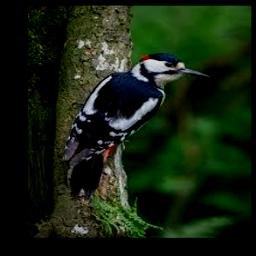Woodpecker: (61, 53, 210, 200)
